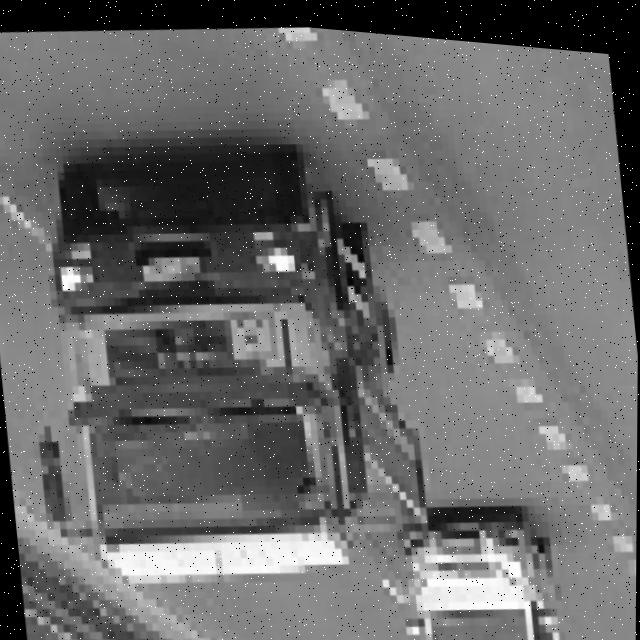truck: (2, 165, 405, 621)
